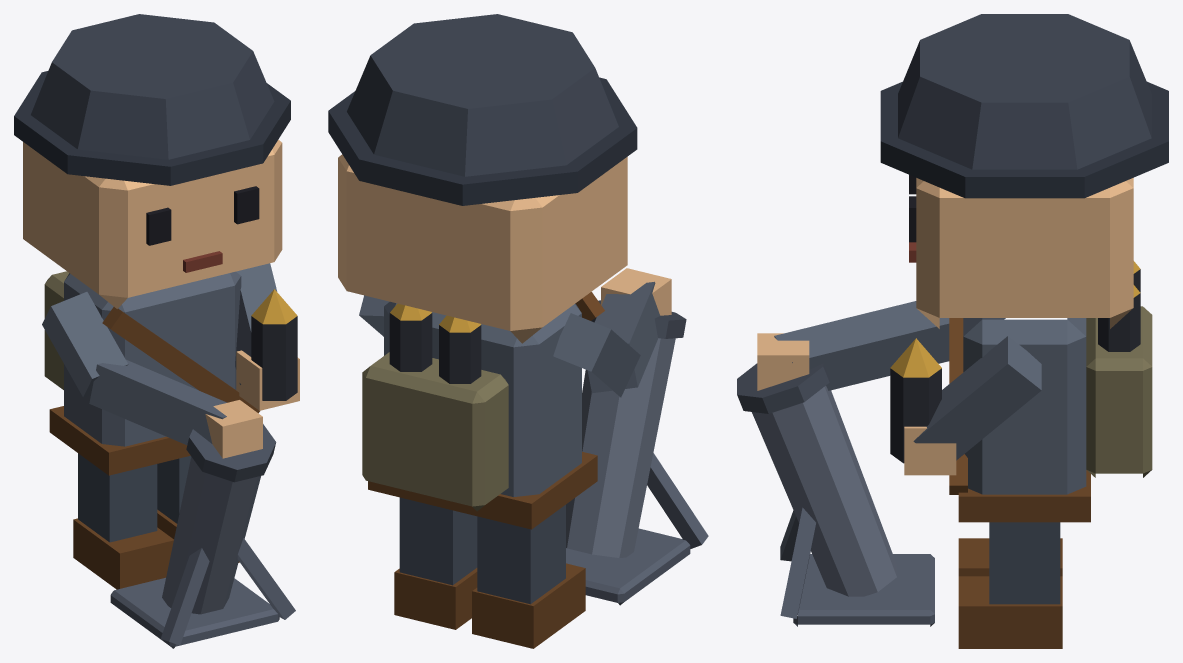
File: mortar_common.glb
The picture shows the model from 3 angles, left to right: view 1: azimuth 30°, elevation 25°; view 2: azimuth 150°, elevation 25°; view 3: azimuth 270°, elevation 25°; orthographic projection. The views are drawn at different scales.
Parts seen in each view (by area): view 1: mortar_common_mesh; view 2: mortar_common_mesh; view 3: mortar_common_mesh.
Part boxes in pixels (left/top/right/bottom): mortar_common_mesh: left=14, top=14, right=299, bottom=648; mortar_common_mesh: left=328, top=14, right=708, bottom=648; mortar_common_mesh: left=737, top=14, right=1168, bottom=648.
Bounding box in the file's own units: 0.6098 × 1.3 × 0.9139.
Materials: 1 (1 with a texture image).
